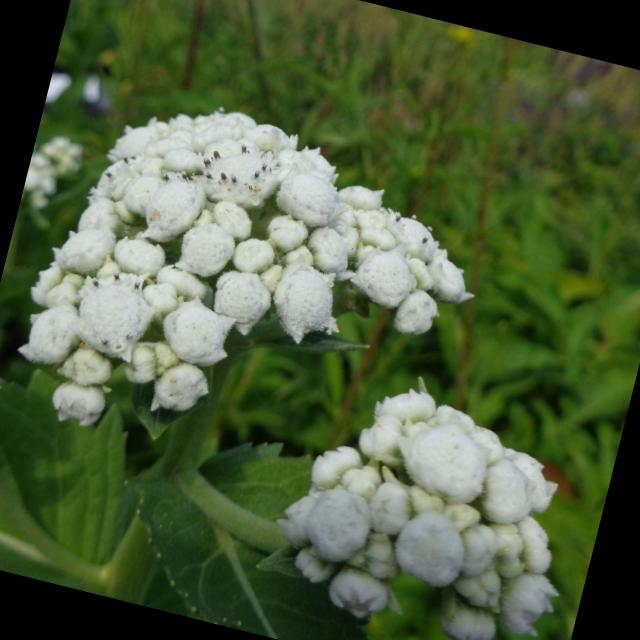Poisonous-Parthenium: (0, 79, 500, 522), (250, 365, 604, 640)
